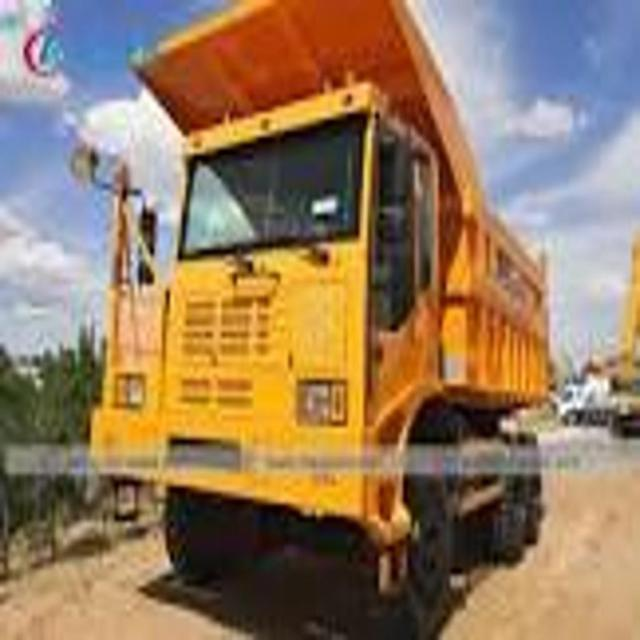dump_truck: (93, 0, 552, 640)
